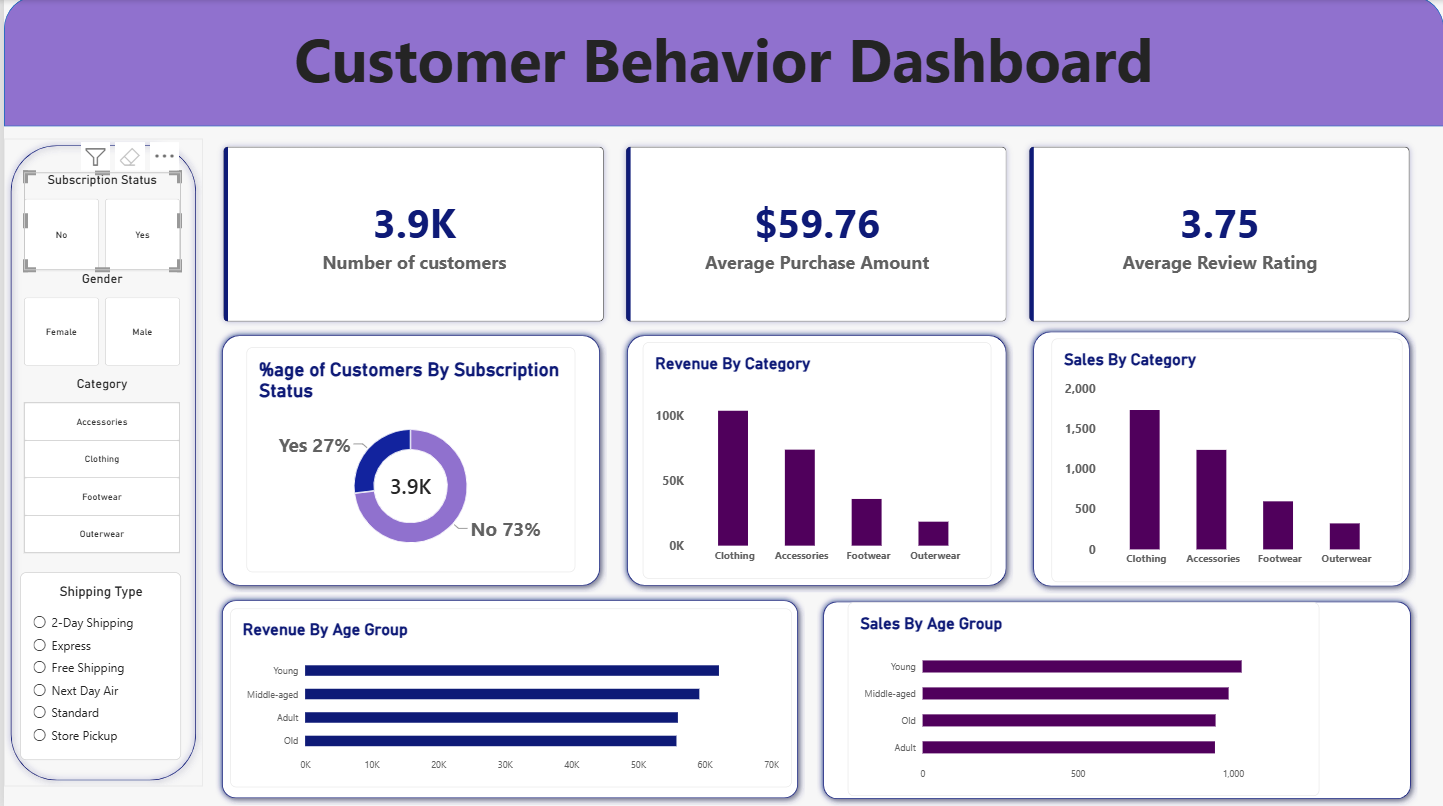

This screenshot's page, from the dashboard's own definition file:
{"tool":"powerbi","page":{"name":"Page 1","canvas":[1920,1080],"ordinal":0},"visuals":[{"type":"cardVisual","fields":{"Data":["customer.Number of customers","customer.Average Purchase Amount","customer.Average Review Rating"]},"box":[281.7,190,1603.3,255],"z":0},{"type":"shape","box":[0,0,1920,174],"z":1000},{"type":"textbox","box":[142,28,1636,146],"z":2000},{"type":"shape","box":[282,444,522,352],"z":3000},{"type":"donutChart","title":"%age of Customers By Subscription Status","fields":{"Category":["customer.subscription_status"],"Y":["CountNonNull(customer.customer_id)"]},"box":[324,468,438,300],"z":4000},{"type":"shape","box":[822,444,524,352],"z":5000},{"type":"shape","box":[1364,438,520,358],"z":6000},{"type":"clusteredColumnChart","title":"Revenue By Category","fields":{"Category":["customer.category"],"Y":["Sum(customer.purchase_amount)"]},"box":[852,462,465,315],"z":7000},{"type":"clusteredColumnChart","title":"Sales By Category","fields":{"Category":["customer.category"],"Y":["CountNonNull(customer.customer_id)"]},"box":[1396,456,468.3,325],"z":8000},{"type":"shape","box":[0,190,265,865],"z":9000},{"type":"advancedSlicerVisual","title":"Subscription Status","fields":{"Values":["customer.subscription_status"]},"box":[27.1,234.3,208.6,132.9],"z":10000},{"type":"advancedSlicerVisual","title":"Gender","fields":{"Values":["customer.gender"]},"box":[27.1,367.1,208.6,127.1],"z":11000},{"type":"advancedSlicerVisual","title":"Category","fields":{"Values":["customer.category"]},"box":[27.1,507.1,208.6,240],"z":12000},{"type":"listSlicer","fields":{"Values":["customer.shipping_type"]},"box":[21.4,768.6,214.3,250],"z":13000},{"type":"shape","box":[1082.9,798.6,801.4,281.4],"z":15000},{"type":"clusteredBarChart","title":"Sales By Age Group","fields":{"Category":["customer.age_group"],"Y":["CountNonNull(customer.customer_id)"]},"box":[1125,807.5,628.6,258.6],"z":16000},{"type":"shape","box":[281.4,797.1,786,282],"z":17000},{"type":"clusteredBarChart","title":"Revenue By Age Group","fields":{"Category":["customer.age_group"],"Y":["Sum(customer.purchase_amount)"]},"box":[301.4,817.1,748.6,238.6],"z":17500}]}

Visuals, with their boxes in screenshot pixels (x1, y1, x2, y2), scaled from the page's 1920x1080 canvas onto the 1443x806 screenshot:
cardVisual - customer.Number of customers x customer.Average Purchase Amount: bbox=(212, 142, 1417, 332)
shape: bbox=(0, 0, 1442, 130)
textbox: bbox=(107, 21, 1336, 130)
shape: bbox=(212, 331, 604, 594)
"%age of Customers By Subscription Status" donutChart: bbox=(244, 349, 573, 573)
shape: bbox=(618, 331, 1012, 594)
shape: bbox=(1025, 327, 1416, 594)
"Revenue By Category" clusteredColumnChart: bbox=(640, 345, 990, 580)
"Sales By Category" clusteredColumnChart: bbox=(1049, 340, 1401, 583)
shape: bbox=(0, 142, 199, 787)
"Subscription Status" advancedSlicerVisual: bbox=(20, 175, 177, 274)
"Gender" advancedSlicerVisual: bbox=(20, 274, 177, 369)
"Category" advancedSlicerVisual: bbox=(20, 378, 177, 558)
listSlicer - customer.shipping_type: bbox=(16, 574, 177, 760)
shape: bbox=(814, 596, 1416, 805)
"Sales By Age Group" clusteredBarChart: bbox=(846, 603, 1318, 796)
shape: bbox=(211, 595, 802, 805)
"Revenue By Age Group" clusteredBarChart: bbox=(227, 610, 789, 788)
